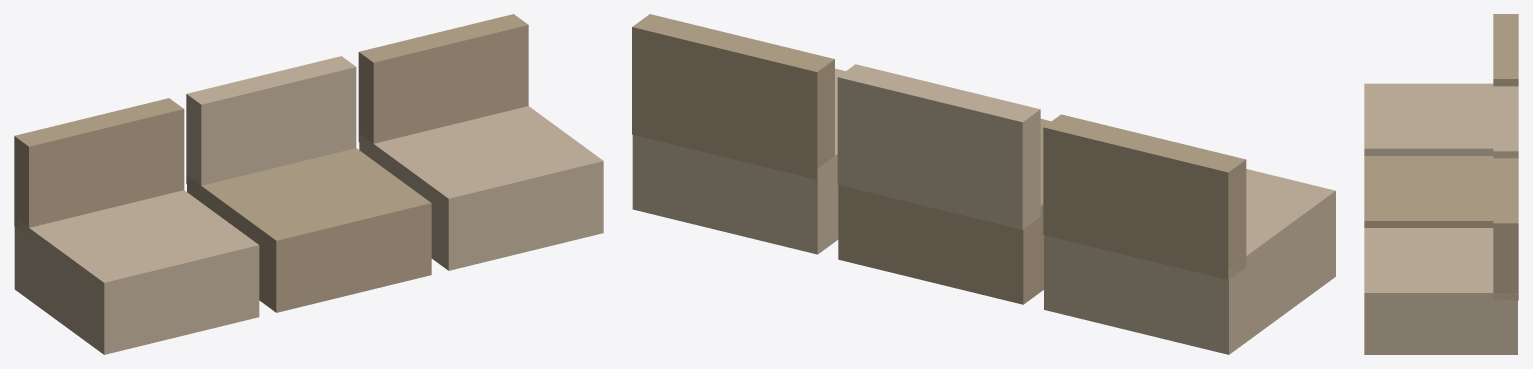
The model's file is sofa_module.glb.
3 renders of one model, left to right at view 1: azimuth 30°, elevation 25°; view 2: azimuth 150°, elevation 25°; view 3: azimuth 270°, elevation 25°, orthographic. The views are drawn at different scales.
Visible parts, largest first — view 1: sofa_module; view 2: sofa_module; view 3: sofa_module.
Part boxes in pixels (bbox=[...]): sofa_module: bbox=[14, 14, 603, 354]; sofa_module: bbox=[632, 14, 1335, 354]; sofa_module: bbox=[1364, 14, 1518, 354].
Size of the model in its own units: 2.9 by 0.85 by 0.905.
